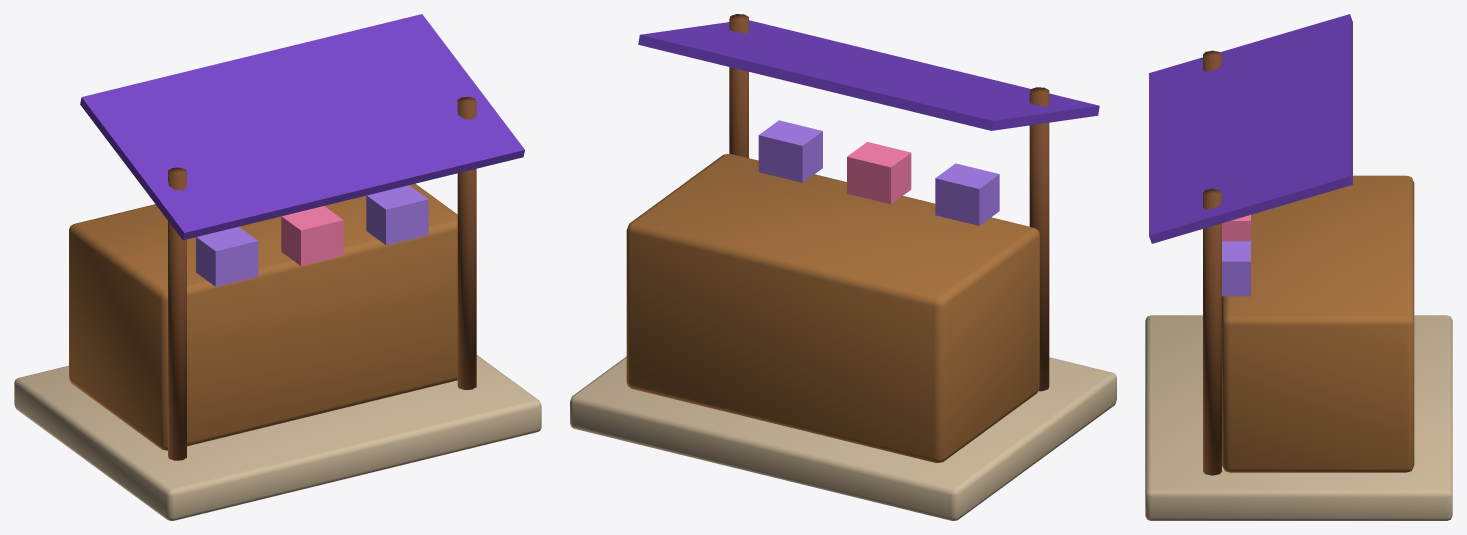
The model's file is mag_1.glb.
The picture shows the model from 3 angles, left to right: view 1: azimuth 30°, elevation 25°; view 2: azimuth 150°, elevation 25°; view 3: azimuth 270°, elevation 25°; orthographic projection. The views are drawn at different scales.
Visible parts, largest first — view 1: Mag.001; view 2: Mag.001; view 3: Mag.001.
Part boxes in pixels (box(x1,y1,x2,y2)): Mag.001: box(14, 14, 541, 520); Mag.001: box(570, 14, 1116, 520); Mag.001: box(1145, 14, 1452, 520).
Size of the model in its own units: 2.2 by 1.94 by 1.6.
